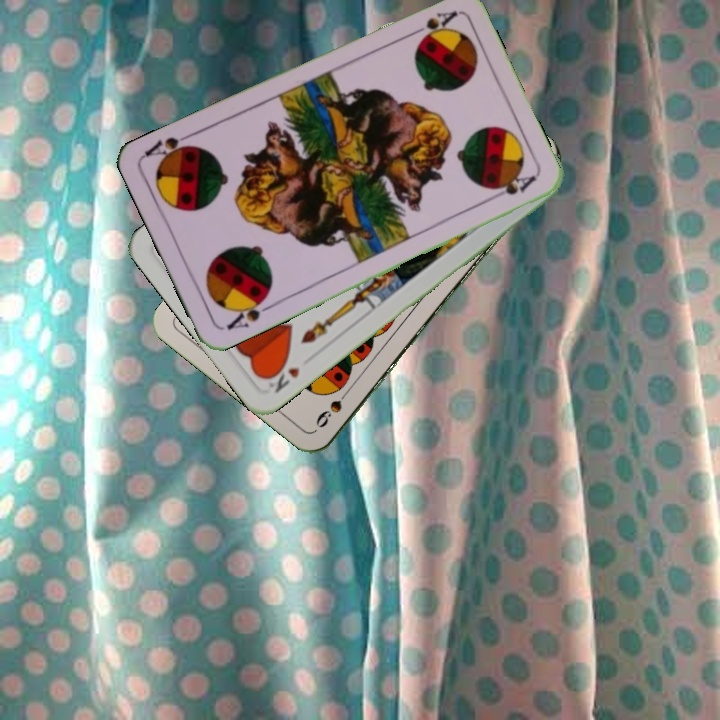HK: (259, 357, 303, 396)
S9: (311, 382, 355, 431)
SA: (222, 291, 276, 333), (404, 7, 460, 44)
